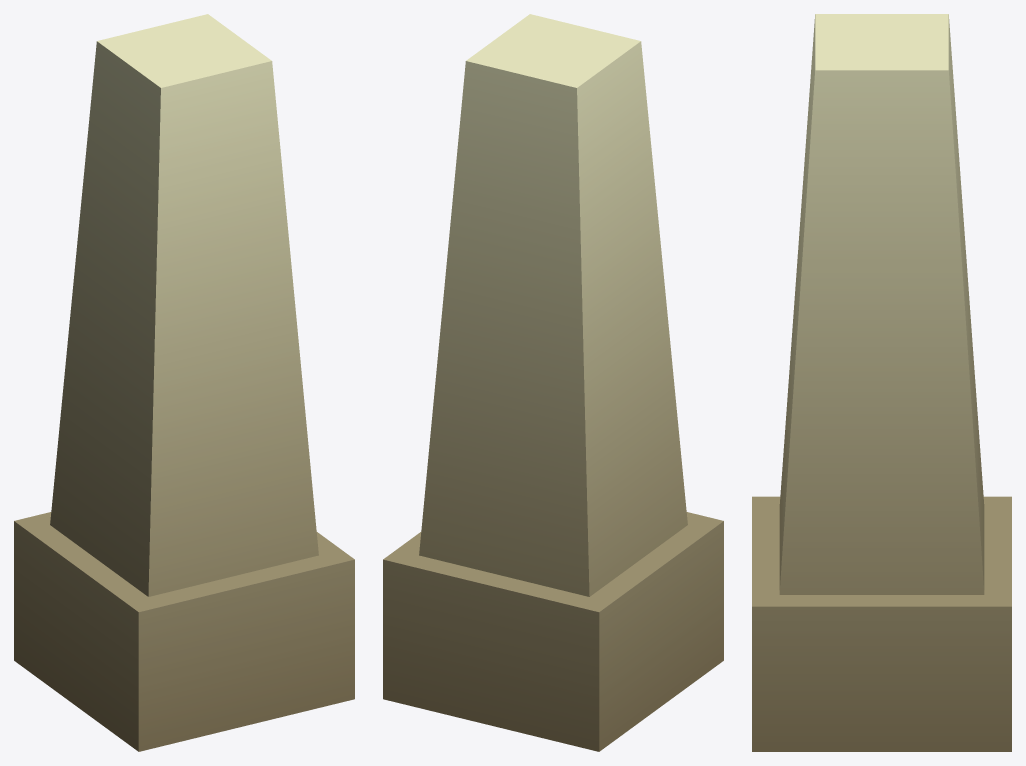
The model's file is ModernPillar_03.fbx.
3 views of the same model, side by side, from view 1: azimuth 30°, elevation 25°; view 2: azimuth 150°, elevation 25°; view 3: azimuth 270°, elevation 25° (orthographic). The views are drawn at different scales.
Visible parts, largest first — view 1: ModernPillar_03_Mesh; view 2: ModernPillar_03_Mesh; view 3: ModernPillar_03_Mesh.
Boxes of the visible parts, x1,y1,x2,y2 form: ModernPillar_03_Mesh: [14, 14, 354, 751]; ModernPillar_03_Mesh: [383, 14, 723, 751]; ModernPillar_03_Mesh: [752, 14, 1011, 751].
Bounding box in the file's own units: 358 × 995 × 358.
